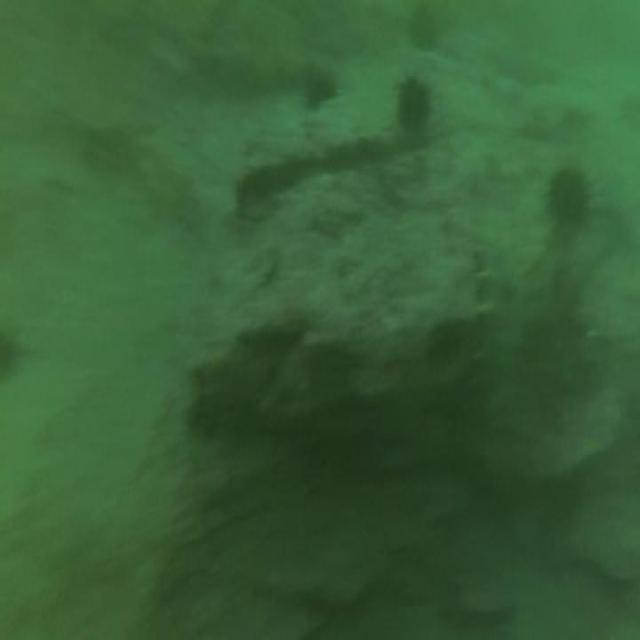echinus: (550, 166, 585, 226), (397, 80, 432, 126)
holothurian: (470, 240, 504, 411)
